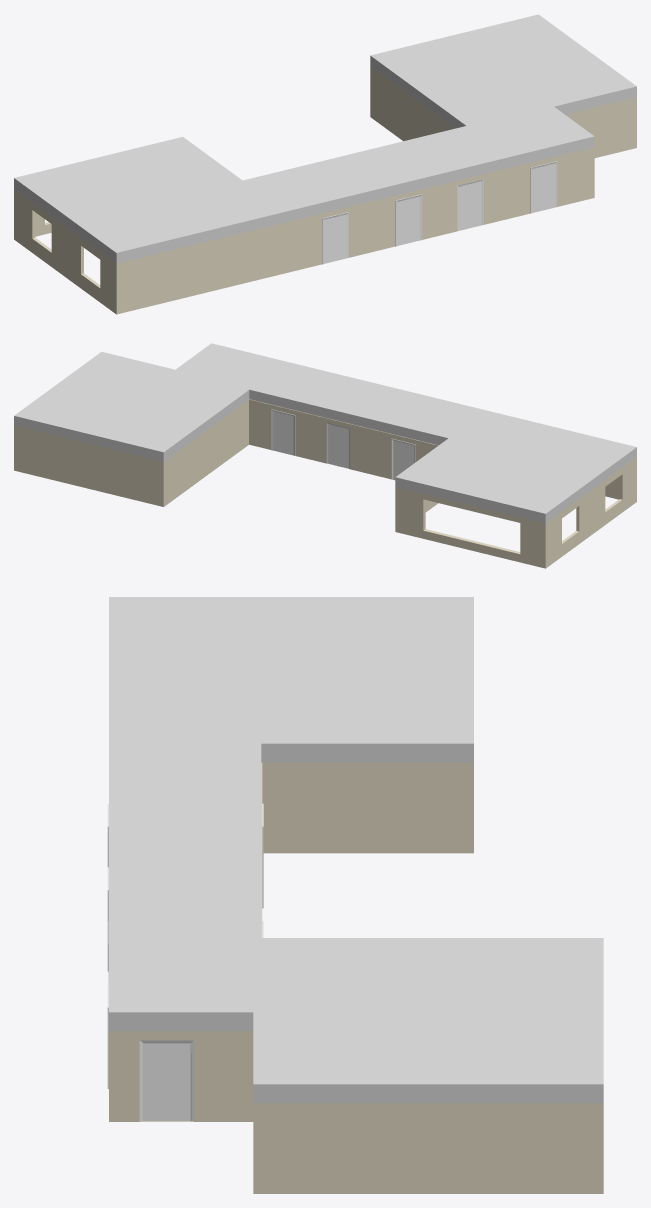
File: classroom_wall.glb
The picture shows the model from 3 angles, top to bottom: view 1: azimuth 30°, elevation 25°; view 2: azimuth 150°, elevation 25°; view 3: azimuth 270°, elevation 25°; orthographic projection. The views are drawn at different scales.
Parts seen in each view (by area): view 1: Plane.013, Plane.014, Plane.015, Plane.001, Plane.009, Plane.006, Plane.007, Plane.004, Plane.002, Plane.003, Plane.005, Cube.017 (+3 smaller); view 2: Plane.013, Plane.014, Plane.015, Plane.009, Plane.001, Plane.010, Plane.012, Plane.003, Plane.002, Plane.011, Cube.012, Cube.019 (+1 smaller); view 3: Plane.014, Plane.013, Plane.015, Plane.009, Plane.001, Plane.008, Cube.009.
Part boxes in pixels (<box>): Plane.013: <box>14,137,285,263</box>; Plane.014: <box>370,14,636,128</box>; Plane.015: <box>243,106,594,222</box>; Plane.001: <box>14,189,307,314</box>; Plane.009: <box>370,66,636,157</box>; Plane.006: <box>515,148,590,216</box>; Plane.007: <box>442,166,515,234</box>; Plane.004: <box>307,199,380,267</box>; Plane.002: <box>16,191,65,276</box>; Plane.003: <box>65,226,113,312</box>; Plane.005: <box>380,184,442,249</box>; Cube.017: <box>530,161,557,213</box>; Plane.013: <box>395,410,636,523</box>; Plane.014: <box>14,351,250,461</box>; Plane.015: <box>175,343,486,445</box>; Plane.009: <box>14,400,248,506</box>; Plane.001: <box>395,457,636,568</box>; Plane.010: <box>249,399,308,458</box>; Plane.012: <box>363,427,438,479</box>; Plane.003: <box>591,458,634,534</box>; Plane.002: <box>548,490,591,566</box>; Plane.011: <box>308,414,363,472</box>; Cube.012: <box>271,409,295,455</box>; Cube.019: <box>326,423,350,468</box>; Plane.014: <box>253,938,603,1103</box>; Plane.013: <box>109,597,473,762</box>; Plane.015: <box>109,743,261,1031</box>; Plane.009: <box>253,1103,603,1193</box>; Plane.001: <box>262,762,473,853</box>; Plane.008: <box>109,1031,253,1121</box>; Cube.009: <box>139,1040,193,1121</box>.
Size of the model in its own units: 11946 by 1253 by 5762.
